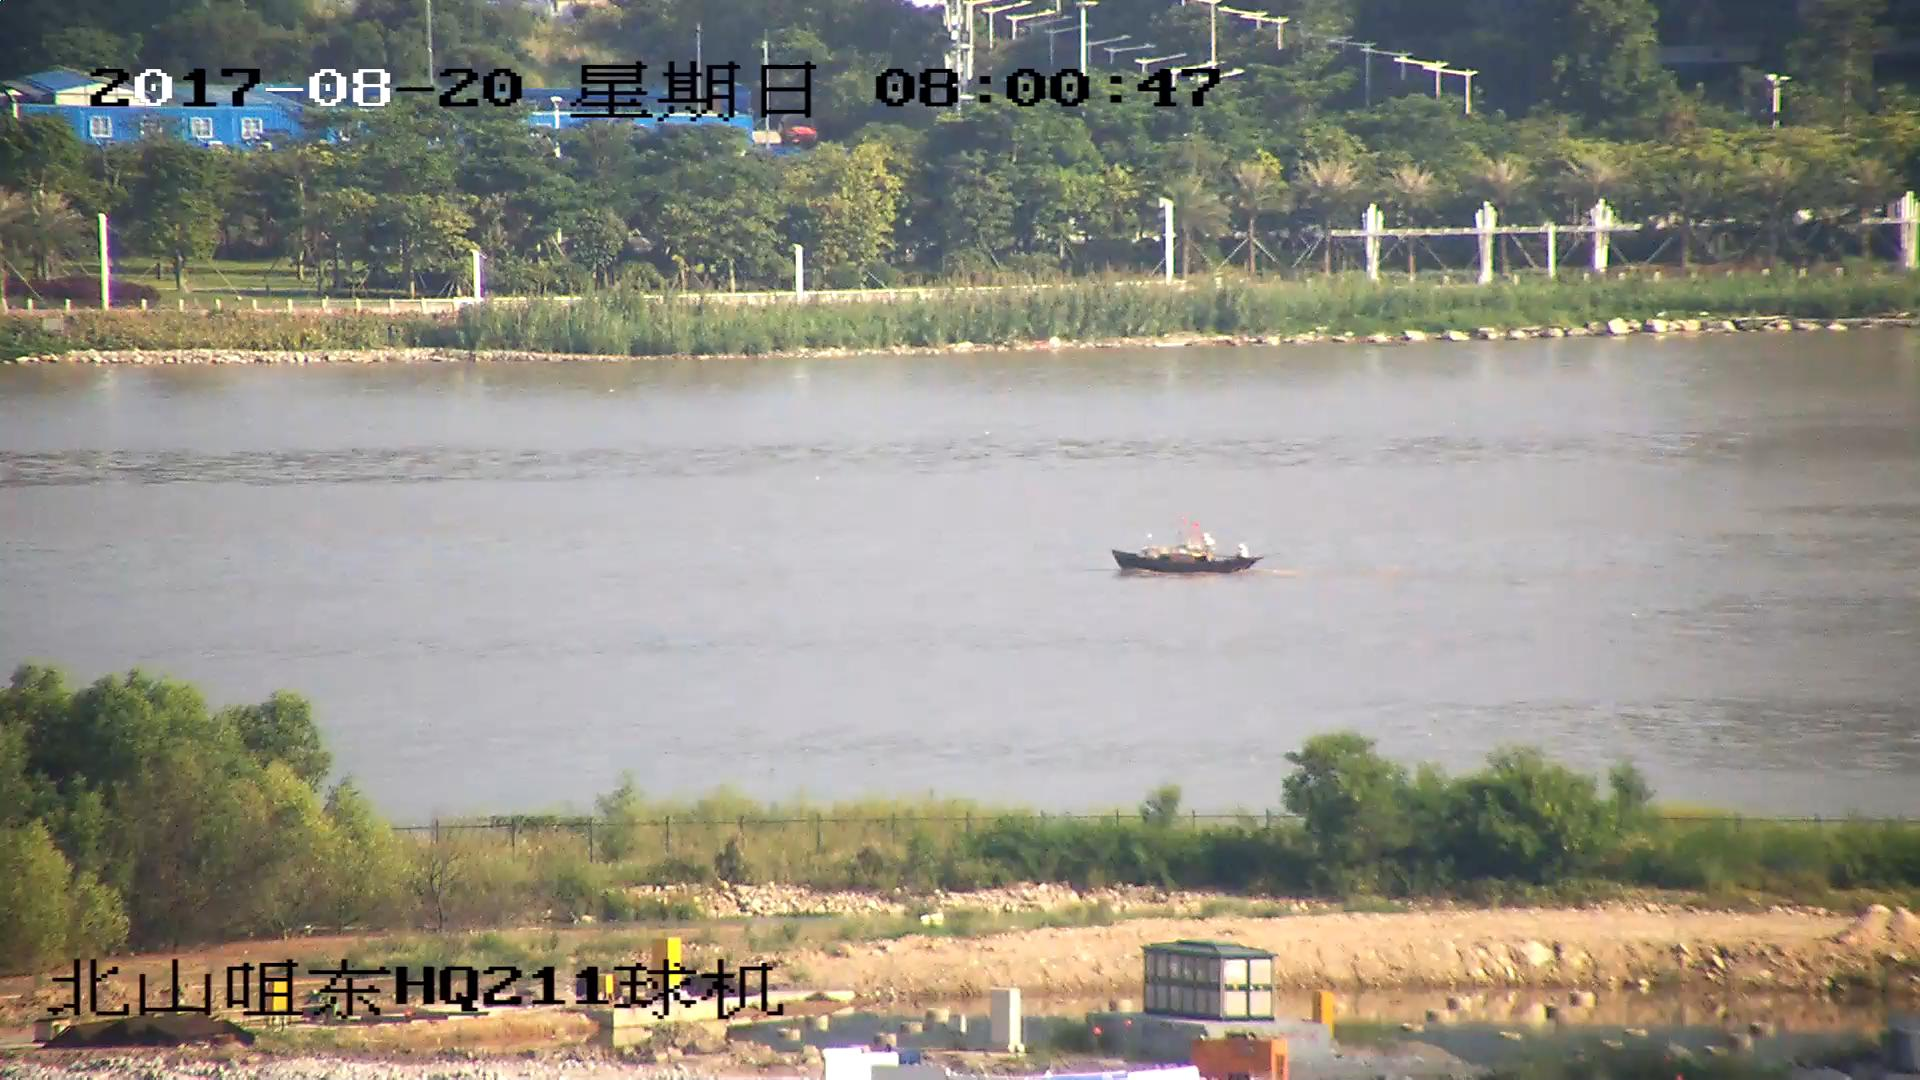fishing boat: (1110, 521, 1255, 576)
